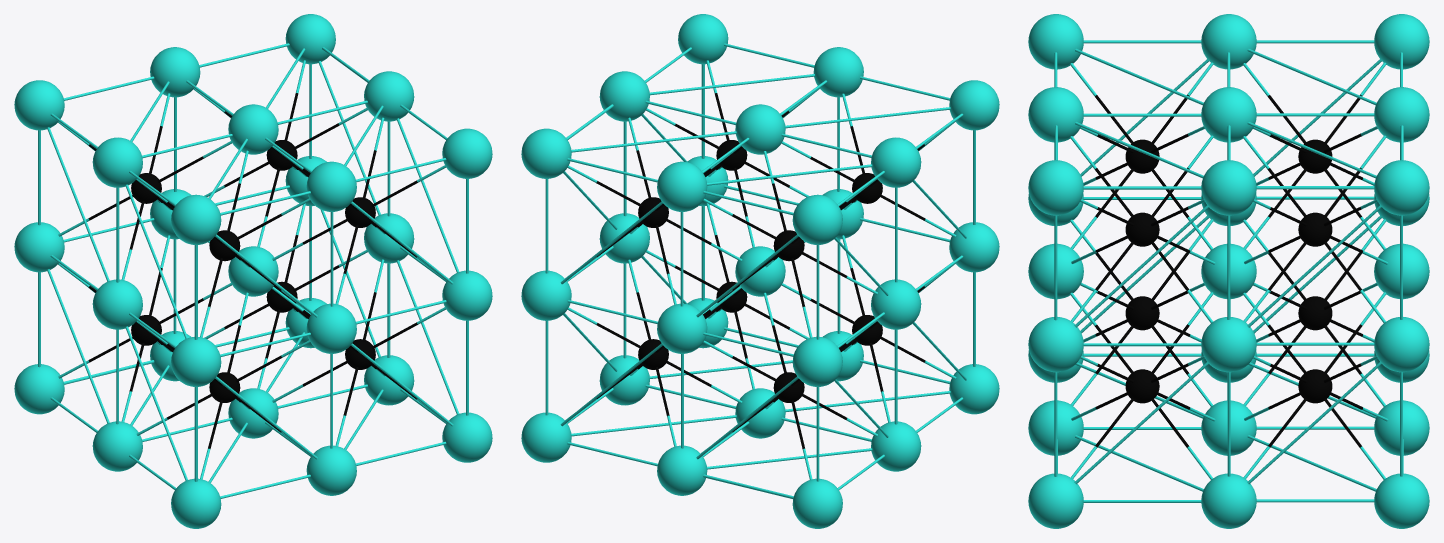
The model's file is carburo de tungsteno.glb.
The picture shows the model from 3 angles, left to right: view 1: azimuth 30°, elevation 25°; view 2: azimuth 150°, elevation 25°; view 3: azimuth 270°, elevation 25°; orthographic projection. The views are drawn at different scales.
Visible parts, largest first — view 1: Sphere.029, Sphere.030, Sphere.012, Sphere.028, Sphere.027, Sphere.026, Sphere.039, Sphere.048, Sphere.033, Sphere.036, Sphere.010, Sphere.025 (+27 smaller); view 2: Sphere.047, Sphere.048, Sphere.042, Sphere.045, Sphere.046, Sphere.044, Sphere.030, Sphere.039, Sphere.041, Sphere.043, Sphere.040, Sphere.037 (+28 smaller); view 3: Sphere.038, Sphere.029, Sphere.047, Sphere.041, Sphere.032, Sphere.044, Sphere.011, Sphere.035, Sphere.026, Sphere.046, Sphere.048, Sphere.037 (+44 smaller).
Boxes of the visible parts, <box> form: Sphere.029: <box>442,128,492,178</box>; Sphere.030: <box>171,194,221,244</box>; Sphere.012: <box>171,478,221,528</box>; Sphere.028: <box>306,161,356,211</box>; Sphere.027: <box>171,337,221,386</box>; Sphere.026: <box>442,270,492,320</box>; Sphere.039: <box>92,137,142,187</box>; Sphere.048: <box>14,80,64,130</box>; Sphere.033: <box>92,421,142,471</box>; Sphere.036: <box>92,279,142,329</box>; Sphere.010: <box>306,445,356,495</box>; Sphere.025: <box>306,303,356,353</box>; Sphere.047: <box>521,128,571,178</box>; Sphere.048: <box>792,194,842,244</box>; Sphere.042: <box>792,478,842,528</box>; Sphere.045: <box>792,336,842,386</box>; Sphere.046: <box>657,161,707,211</box>; Sphere.044: <box>521,270,571,320</box>; Sphere.030: <box>949,80,999,130</box>; Sphere.039: <box>871,137,921,187</box>; Sphere.041: <box>521,412,571,462</box>; Sphere.043: <box>657,303,707,353</box>; Sphere.040: <box>657,445,707,495</box>; Sphere.037: <box>735,104,785,154</box>; Sphere.038: <box>1201,160,1256,215</box>; Sphere.029: <box>1028,160,1083,215</box>; Sphere.047: <box>1374,160,1429,215</box>; Sphere.041: <box>1374,473,1429,528</box>; Sphere.032: <box>1201,473,1256,528</box>; Sphere.044: <box>1374,317,1429,372</box>; Sphere.011: <box>1028,473,1083,528</box>; Sphere.035: <box>1201,317,1256,372</box>; Sphere.026: <box>1028,317,1083,372</box>; Sphere.046: <box>1374,87,1429,142</box>; Sphere.048: <box>1374,14,1429,69</box>; Sphere.037: <box>1201,87,1256,142</box>.
Size of the model in its own units: 9.29 by 9.29 by 9.29.
